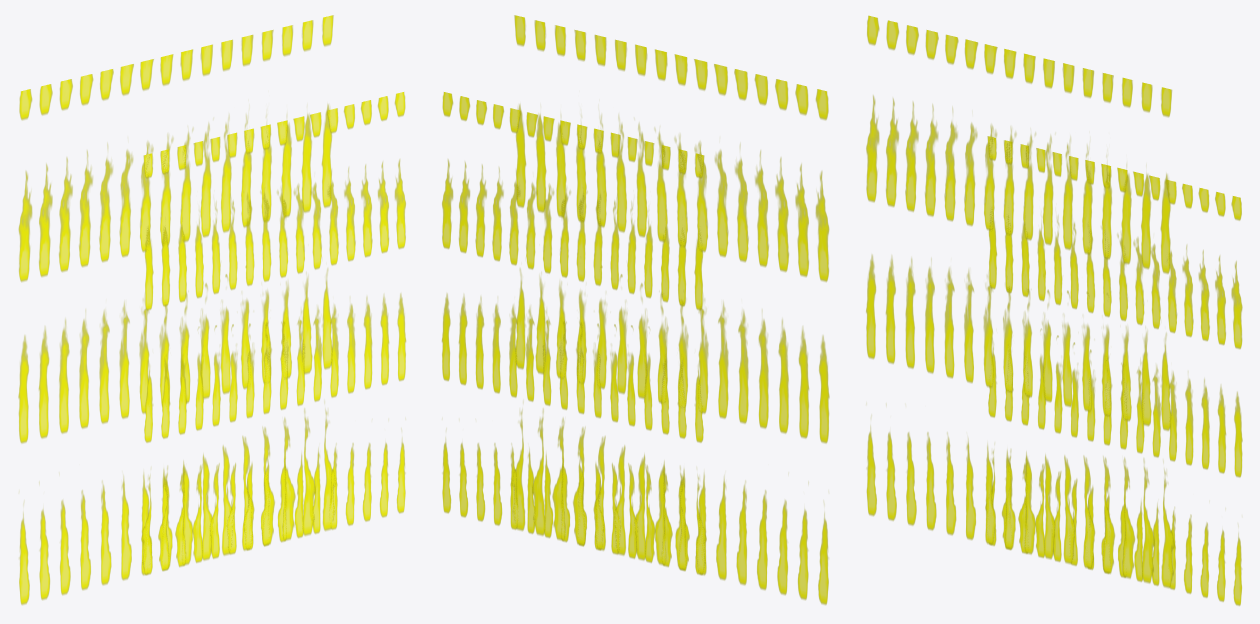
Rendered from mm9_deco_pentafire_yellow.glb.
3 renders of one model, left to right at view 1: azimuth 30°, elevation 25°; view 2: azimuth 150°, elevation 25°; view 3: azimuth 330°, elevation 25°, orthographic. The views are drawn at different scales.
Visible parts, largest first — view 1: Pentafire_yellow; view 2: Pentafire_yellow; view 3: Pentafire_yellow.
Boxes of the visible parts, x1,y1,x2,y2 form: Pentafire_yellow: (18,15,405,604); Pentafire_yellow: (442,15,829,604); Pentafire_yellow: (866,15,1242,605).
Size of the model in its own units: 0.44 by 0.55 by 0.
1 material, 1 textured.
